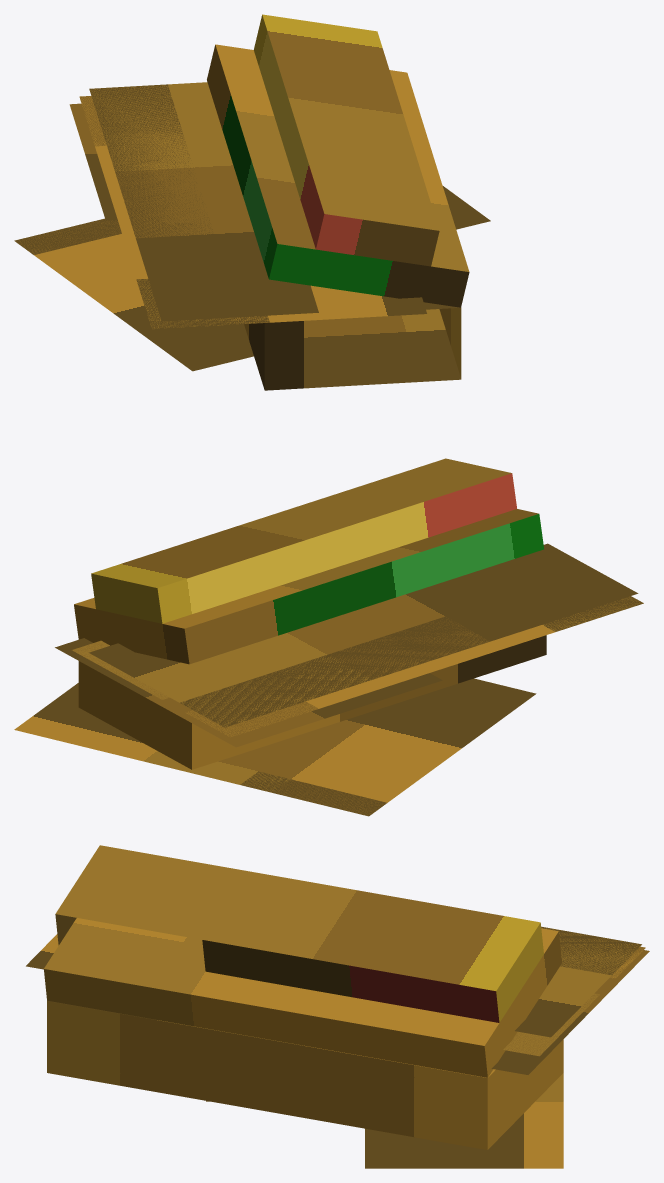
File: froggle_bunwich.obj
The picture shows the model from 3 angles, top to bottom: view 1: azimuth 30°, elevation 25°; view 2: azimuth 150°, elevation 25°; view 3: azimuth 270°, elevation 25°; orthographic projection. The views are drawn at different scales.
Visible parts, largest first — view 1: cube, frog, cheese, tomato; view 2: cube, frog, cheese, tomato; view 3: cube, frog, cheese, tomato.
Boxes of the visible parts, <box> form: cube: <box>14,14,490,390</box>; frog: <box>89,82,318,321</box>; cheese: <box>79,96,426,329</box>; tomato: <box>69,103,117,220</box>; cube: <box>14,458,546,816</box>; frog: <box>89,543,638,727</box>; cheese: <box>72,596,643,737</box>; tomato: <box>55,638,442,747</box>; cube: <box>44,845,563,1168</box>; frog: <box>515,926,641,1037</box>; cheese: <box>26,934,645,1056</box>; tomato: <box>491,950,649,1074</box>.
Size of the model in its own units: 0.8432 by 0.3075 by 0.9997.
